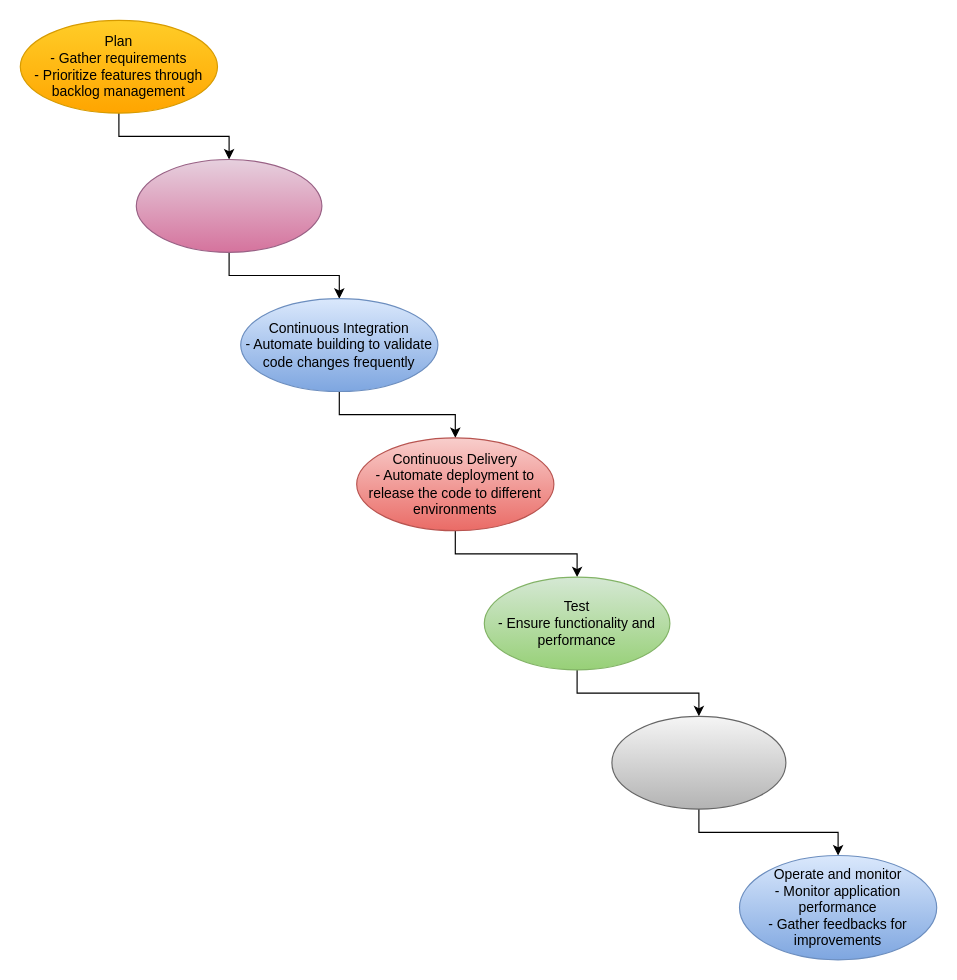
Some shapes in this 957 by 980 pixel diagram are drawn without their labels. Here are the shapes that lost their labels. From the top down, the centre of each, then its label:
At [228,205]: "Develop - Write the code".
At [698,762]: "Deploy - Deploy with new features".
